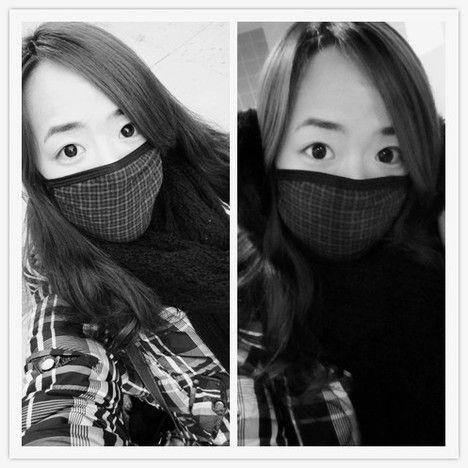OK: (279, 111, 411, 257), (39, 111, 162, 234)
